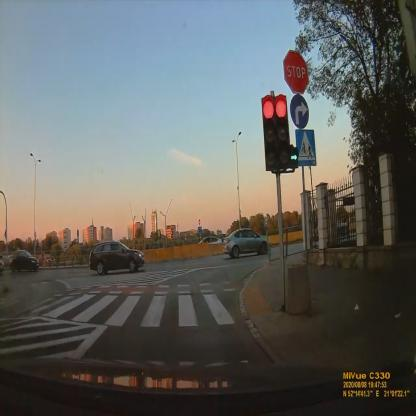cars: (89, 238, 144, 274), (224, 228, 270, 258), (8, 250, 40, 276)
